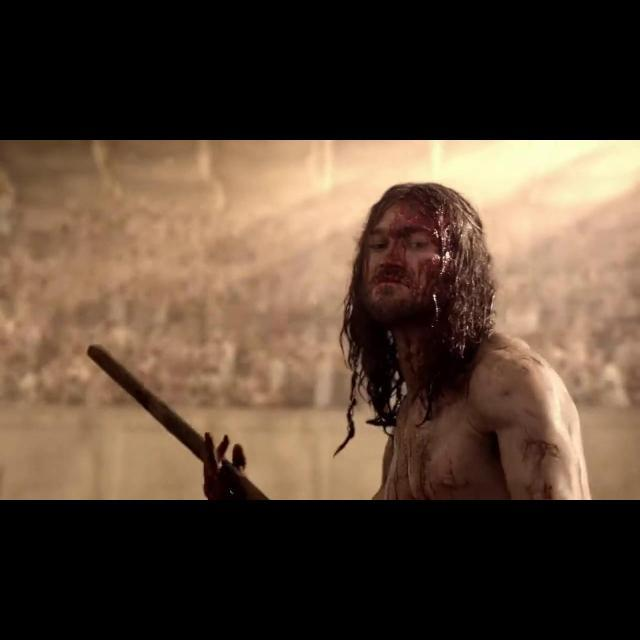blood: (360, 201, 442, 327)
